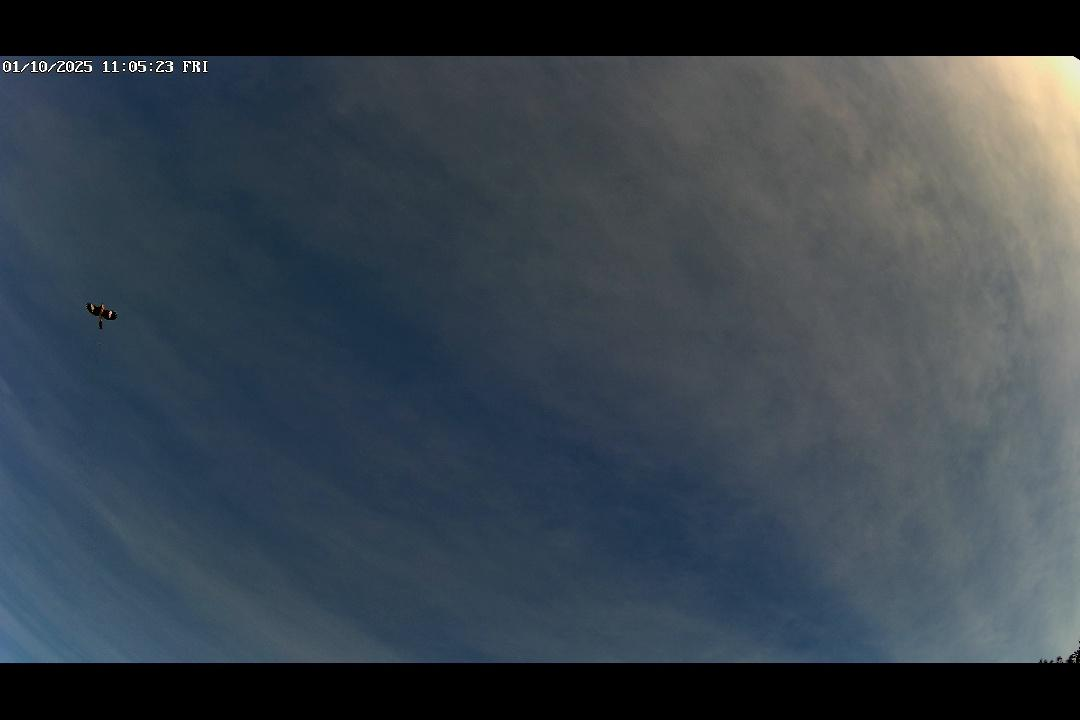WildLife: (83, 294, 120, 338)
